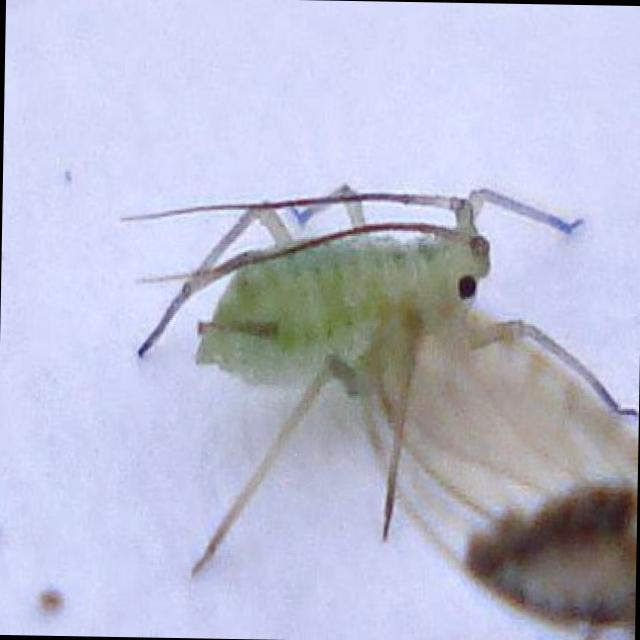aphid: (110, 160, 620, 534)
